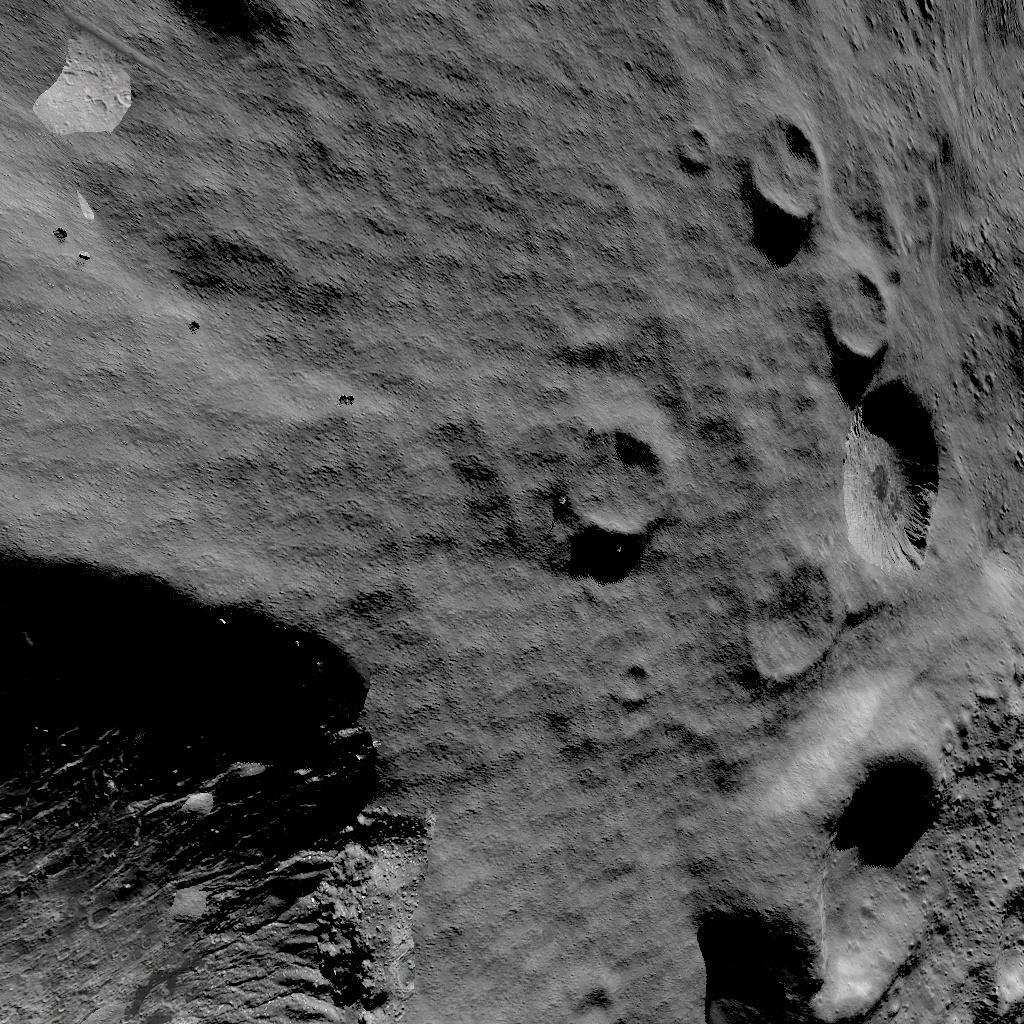Boulders: (30, 21, 132, 153)
Crater: (0, 556, 408, 1024), (680, 715, 942, 1019), (734, 378, 950, 686), (552, 430, 684, 561), (953, 858, 1024, 1014), (738, 120, 830, 233), (814, 266, 898, 364), (554, 962, 624, 1024), (600, 656, 654, 710)
Plan surface: (146, 3, 530, 540)
